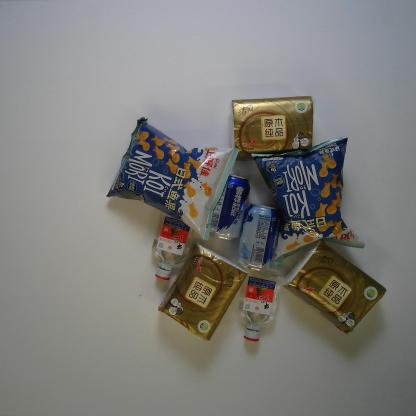Alcohol: (236, 270, 282, 342), (236, 203, 282, 273), (151, 211, 195, 282), (208, 172, 251, 242)
Puffed Food: (106, 117, 238, 241), (251, 136, 365, 266)
Tissue: (282, 239, 387, 335), (157, 244, 248, 340), (230, 96, 314, 162)
